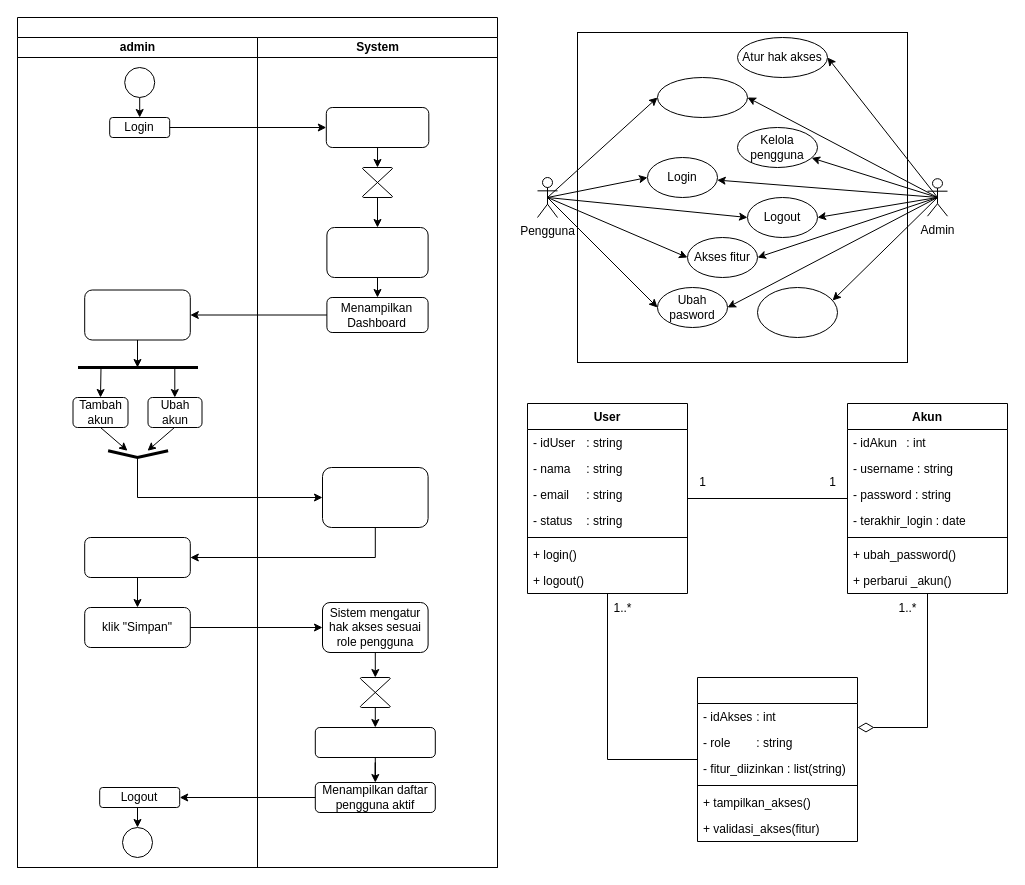
The diagram is 1025 pixels wide and 885 high, and some of its shapes have lost their labels. Here are the shapes that lost their labels. From the top down, the box of each, then its label:
(656, 76, 748, 118): Lihat hak akses
(325, 106, 429, 148): Memverifikasi level akses
(326, 226, 428, 278): Level akses diverifikasi sebagai Admin
(84, 289, 190, 340): mengakses menu "Manajemen pengguna"
(756, 286, 838, 338): audit dan pengawasan pengguna
(16, 16, 498, 868): Keaman dan akses pengguna
(322, 466, 428, 528): menampilkan form pengisian
(84, 536, 190, 578): mengisi form
(314, 726, 435, 758): Menampilkan konfrimasi berhasil
(696, 676, 858, 842): Hak_akses
